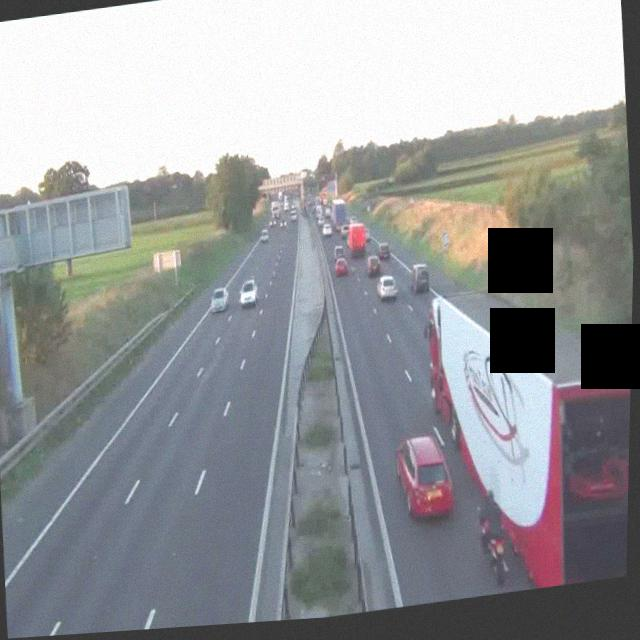car: (393, 432, 455, 522), (409, 262, 432, 294), (375, 270, 398, 300), (208, 284, 230, 313), (238, 276, 258, 306), (332, 251, 349, 277), (365, 255, 381, 279), (378, 238, 391, 261), (322, 221, 333, 237), (259, 228, 269, 243), (289, 213, 297, 224)
truck: (416, 267, 633, 602), (346, 222, 368, 259), (331, 196, 350, 231), (269, 199, 282, 227)
